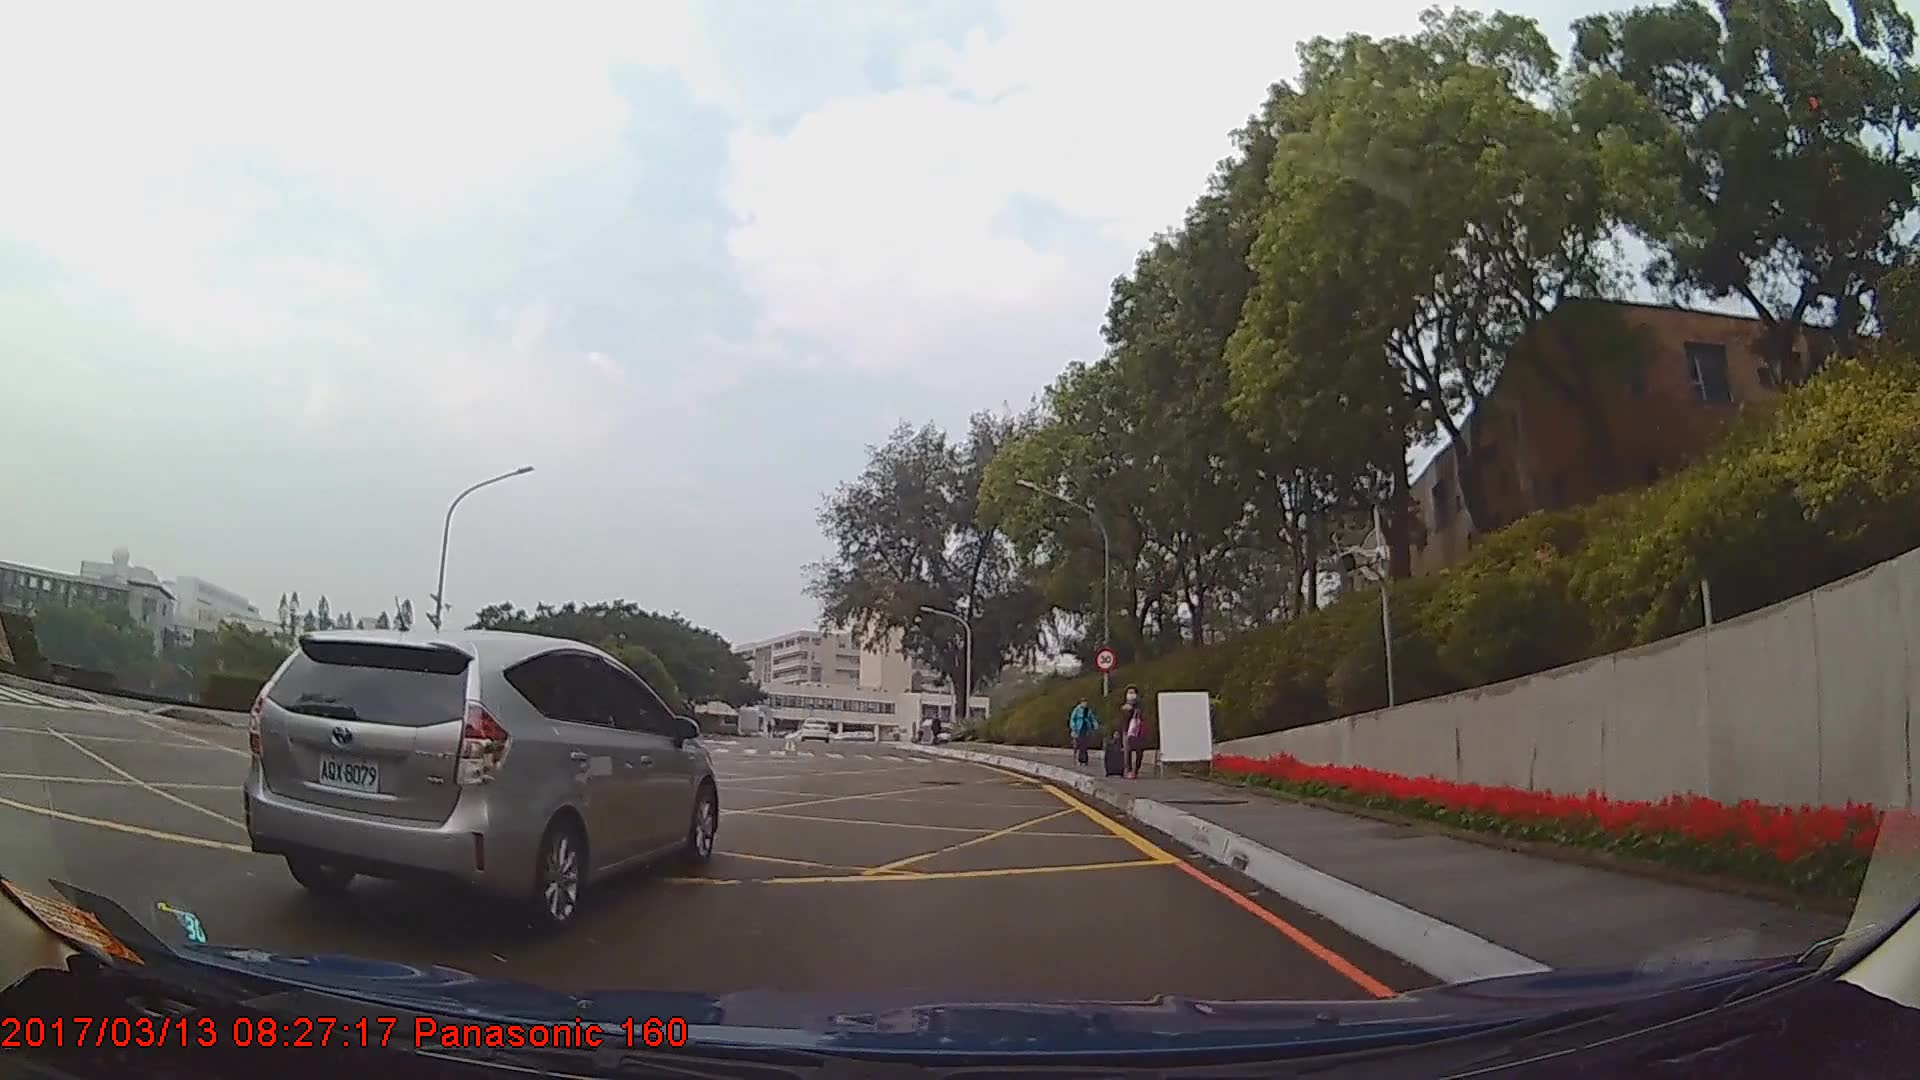pedestrian: (1109, 682, 1155, 777), (1071, 694, 1100, 770)
vehicle: (239, 627, 722, 935), (799, 715, 833, 742)
